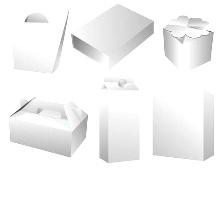book: (66, 0, 158, 74), (4, 91, 92, 160), (148, 84, 220, 166), (4, 0, 75, 77), (95, 70, 146, 167), (159, 10, 217, 77)
